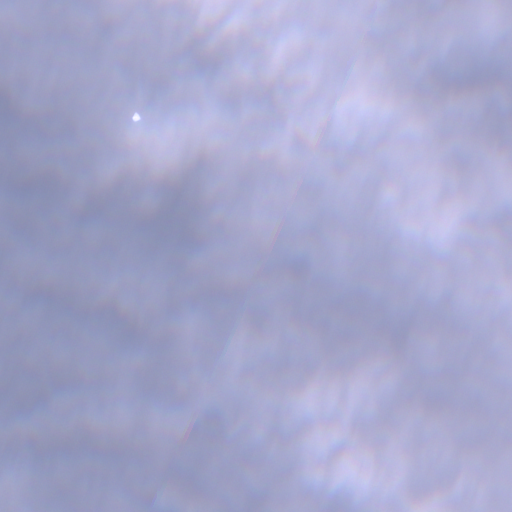Iceberg: (133, 112, 139, 120)
